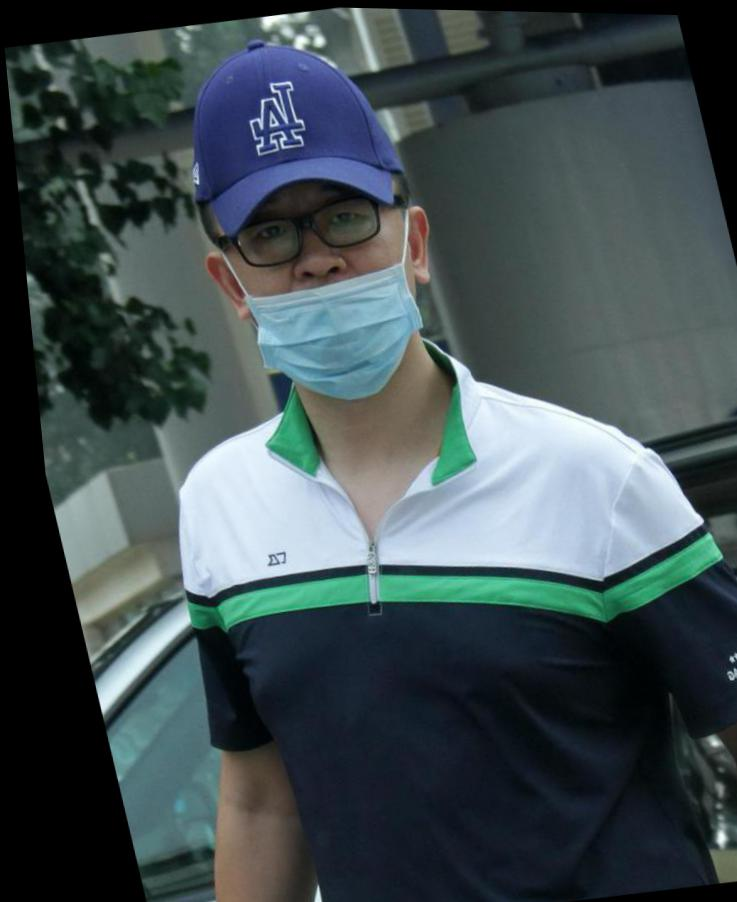WRONG: (199, 163, 443, 394)
